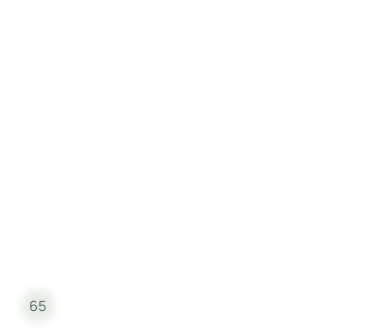
Test: sidebar click-to-open flow › opens the actual App on a single disc button click and keeps details visible
Click the button named "查看额度详情".
click(38, 306)  # box x1=12 y1=280 x2=64 y2=331
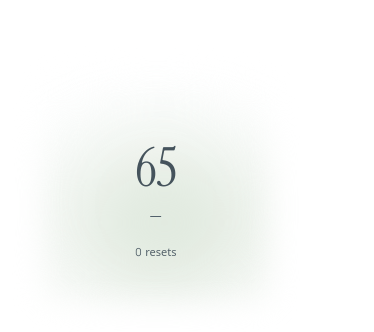
Now the element named "5-hour quota" is shown, box x1=135 y1=133 x2=177 y2=224
